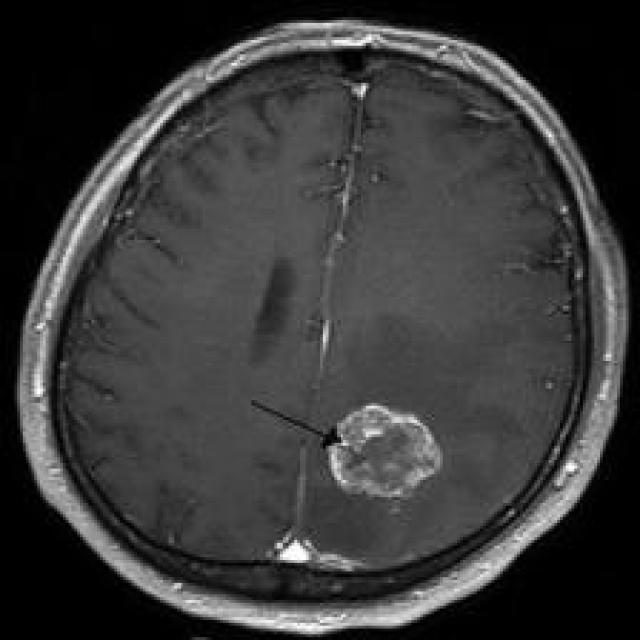Tumor: (320, 406, 446, 500)
